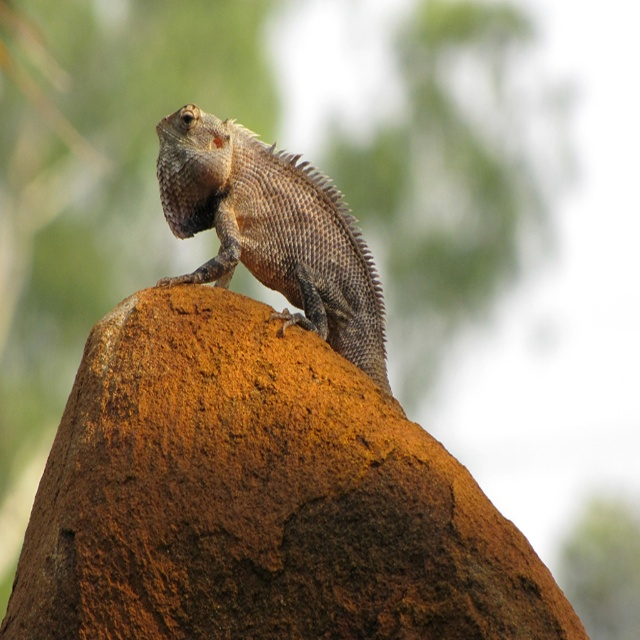Lizard: (145, 106, 453, 428)
